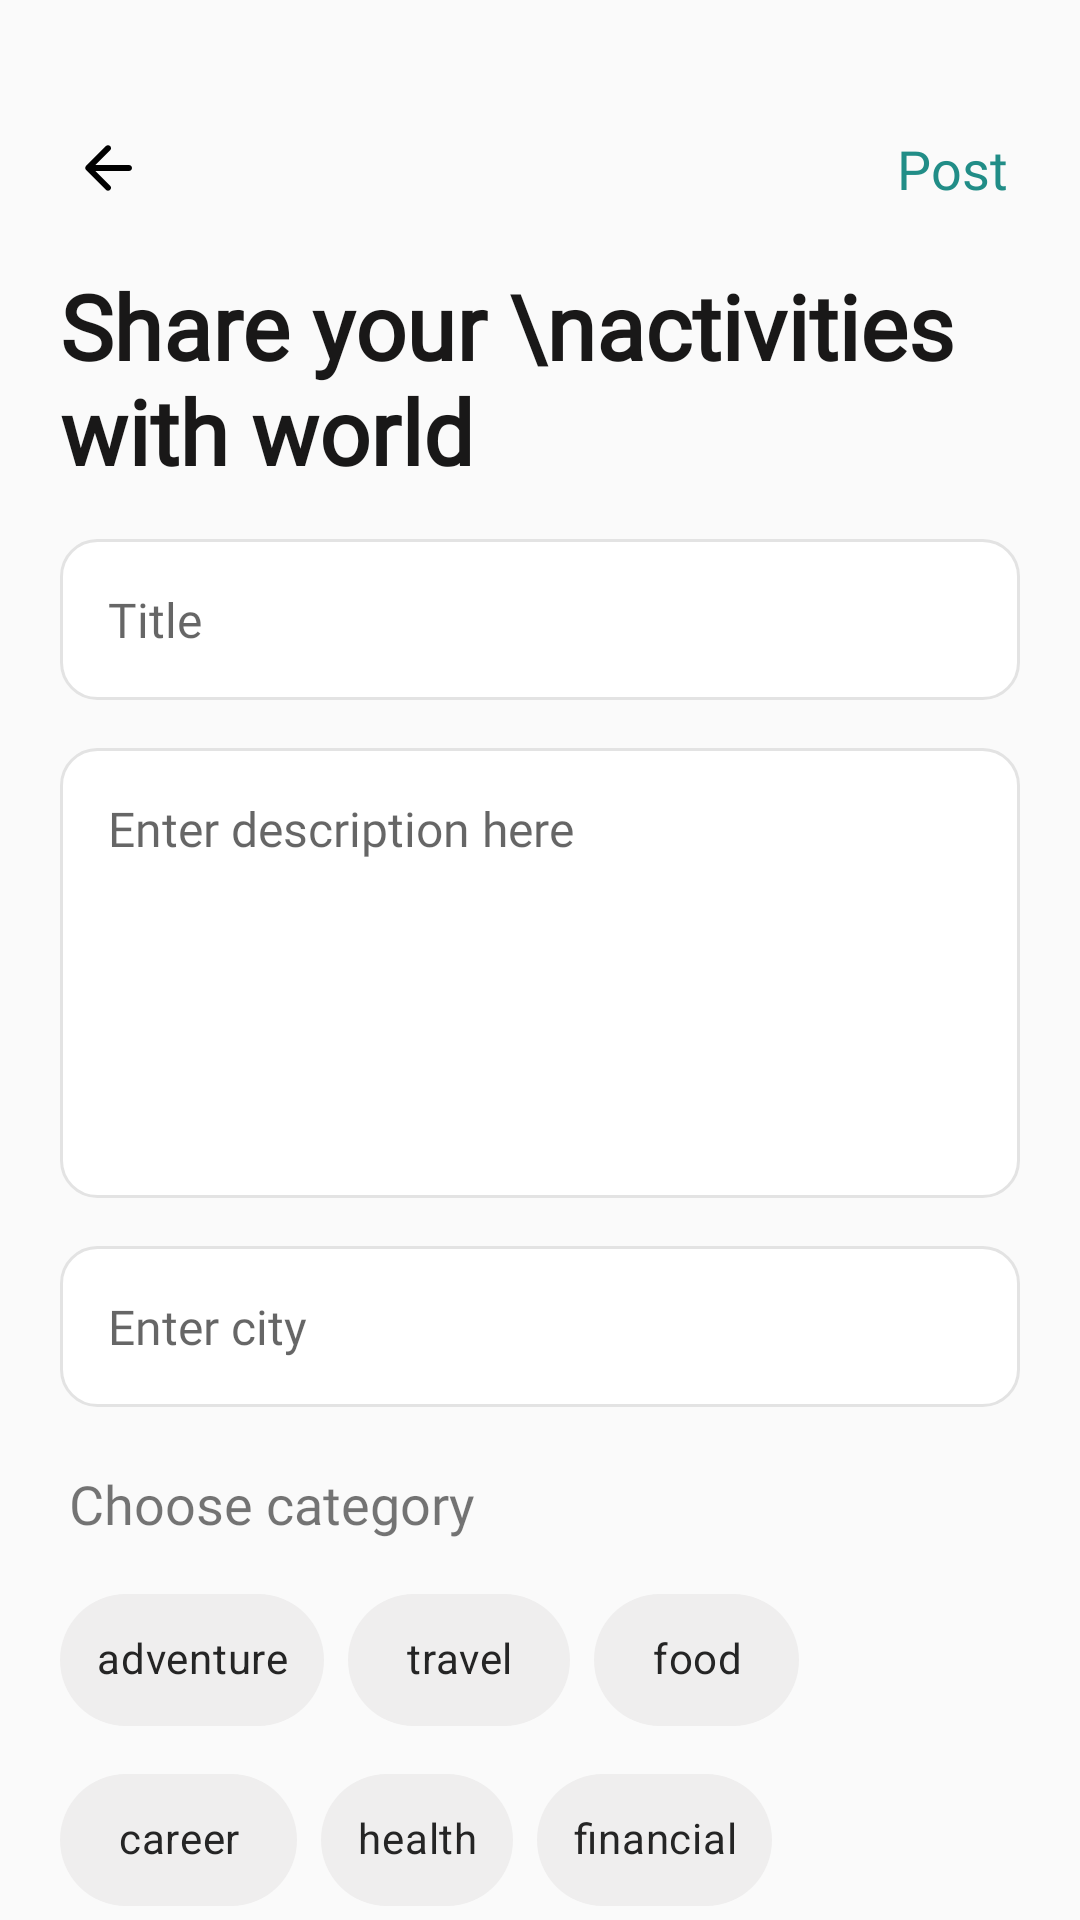

Named icons in this screenshot (1080px×1920px) and their bounding boxes, rect(x1, y1, x2, y2):
back: rect(85, 145, 132, 191)
